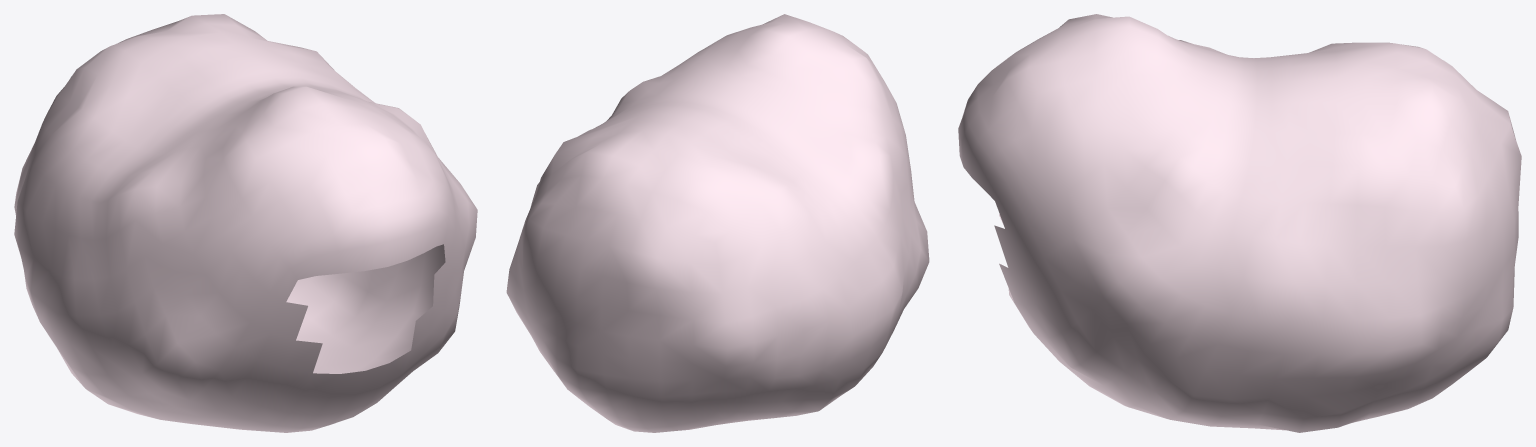
The picture shows the model from 3 angles, left to right: view 1: azimuth 30°, elevation 25°; view 2: azimuth 150°, elevation 25°; view 3: azimuth 270°, elevation 25°; orthographic projection. The views are drawn at different scales.
Parts seen in each view (by area): view 1: Wool; view 2: Wool; view 3: Wool.
Part boxes in pixels (left/top/right/bottom): Wool: left=14, top=14, right=477, bottom=432; Wool: left=506, top=14, right=929, bottom=432; Wool: left=958, top=14, right=1521, bottom=432.
Bounding box in the file's own units: 201 × 184 × 243.
